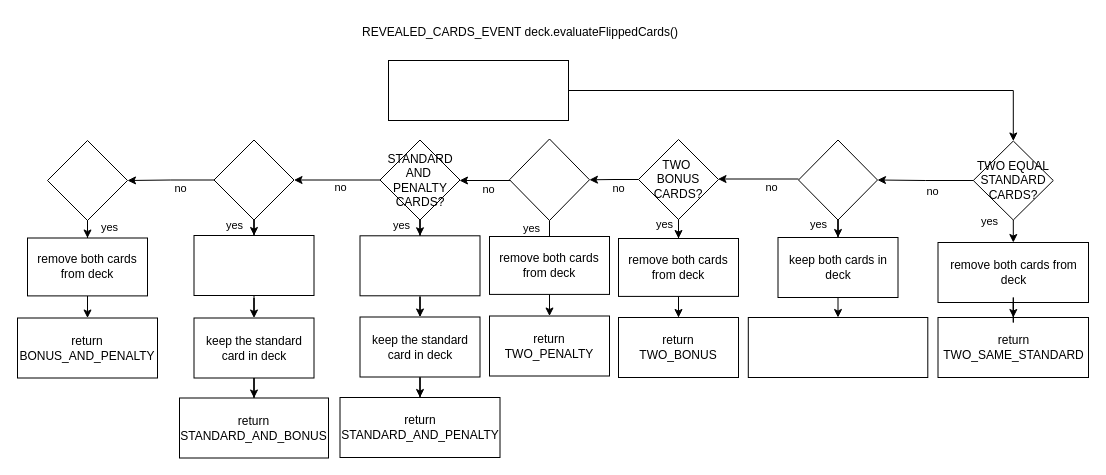
Some shapes in this 1106 by 475 pixel diagram are drawn without their labels. Each missing label, with the centre of its shape:
"BONUS AND PENALTY CARDS?" belongs at [87,180].
"check the types of both cards" belongs at [478,90].
"remove the bonus card from deck" belongs at [253,265].
"remove the penalty card from deck" belongs at [419,265].
"return TWO_DIFFERENT_STANDARD" belongs at [837,347].
"STANDARD AND BONUS CARDS?" belongs at [253,179].
"TWO DIFFERENT STANDARD CARDS?" belongs at [838,179].
"TWO PENALTY CARDS?" belongs at [549,179].
